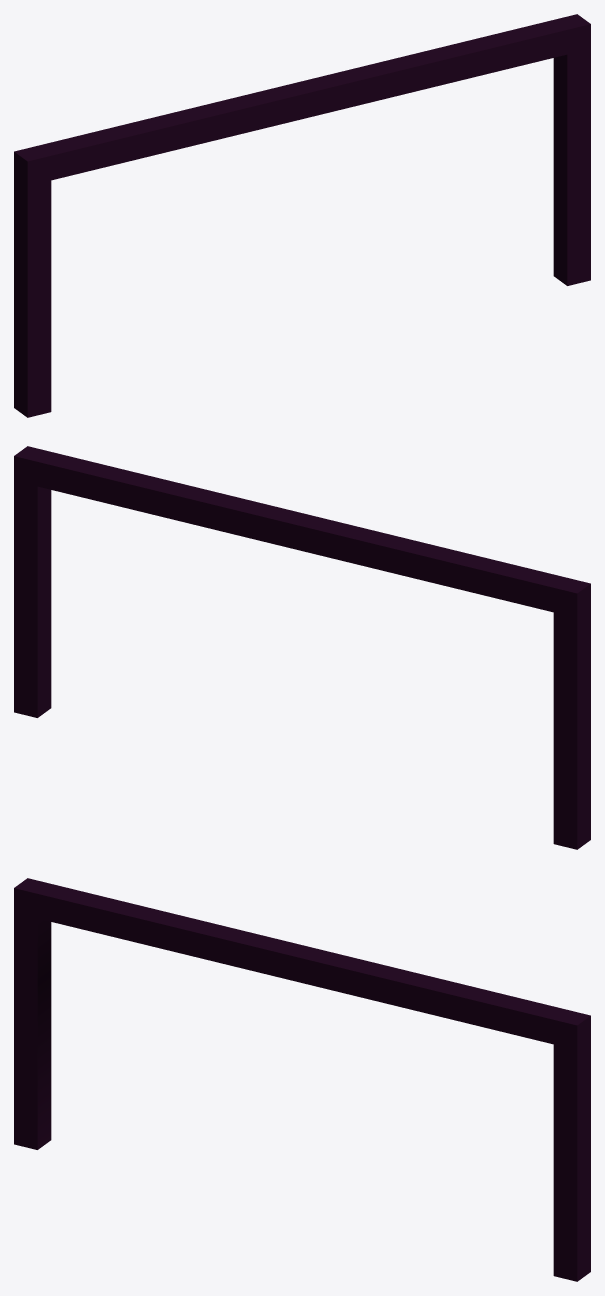
Rendered from cage.FBX.
3 views of the same model, one above another, from view 1: azimuth 30°, elevation 25°; view 2: azimuth 150°, elevation 25°; view 3: azimuth 330°, elevation 25° (orthographic).
Parts seen in each view (by area): view 1: Object004; view 2: Object004; view 3: Object004.
Part boxes in pixels (x1,y1,x2,y2): Object004: (14,14,590,417); Object004: (14,446,590,849); Object004: (14,878,590,1281).
Size of the model in its own units: 1670 by 70 by 726.
